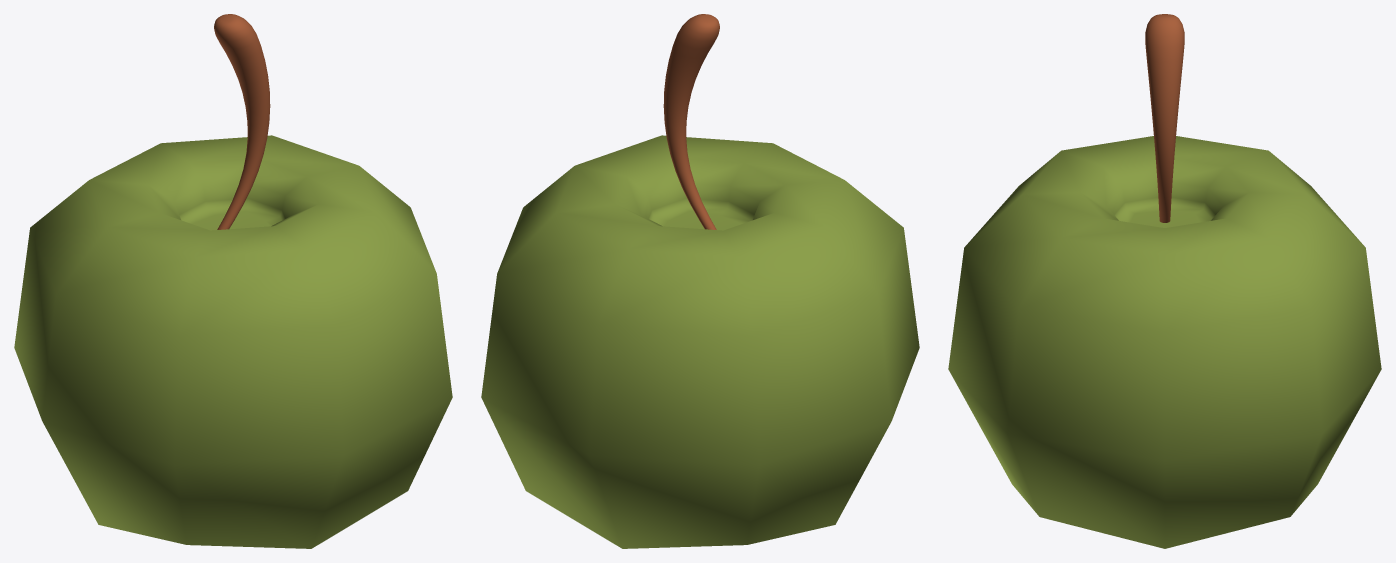
The model's file is apple.fbx.
3 views of the same model, side by side, from view 1: azimuth 30°, elevation 25°; view 2: azimuth 150°, elevation 25°; view 3: azimuth 270°, elevation 25° (orthographic).
Parts seen in each view (by area): view 1: Cube.250; view 2: Cube.250; view 3: Cube.250.
Boxes of the visible parts, box(x1,y1,x2,y2) form: Cube.250: box(14, 14, 452, 548); Cube.250: box(481, 14, 919, 548); Cube.250: box(948, 14, 1381, 548).
Size of the model in its own units: 49.32 by 64 by 49.32.
